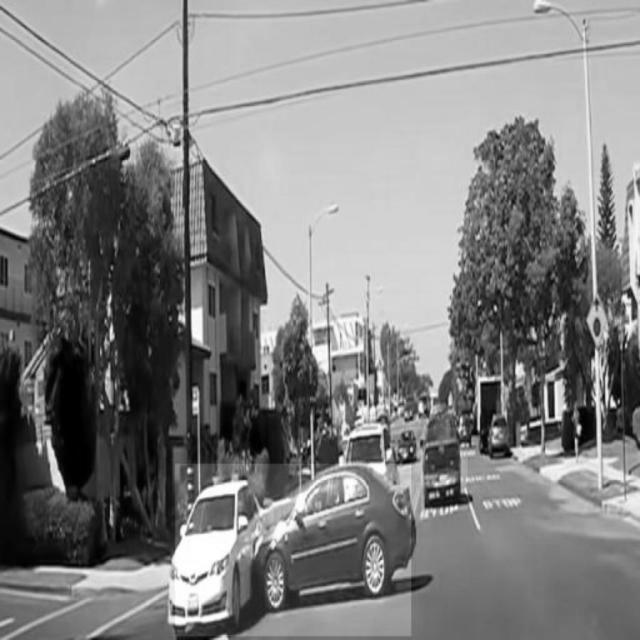accident: (175, 464, 411, 636)
vehicle: (422, 427, 468, 509), (485, 410, 519, 461)
